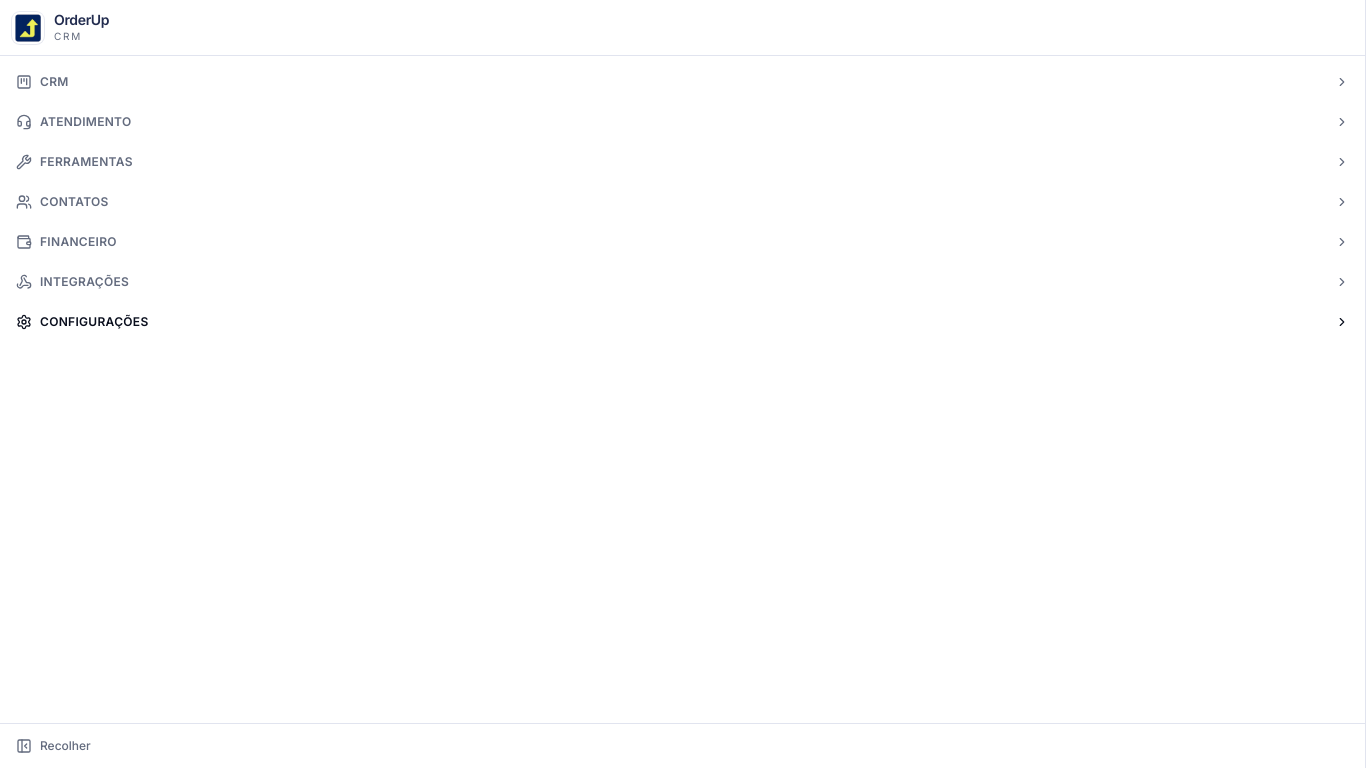
Test case: Sidebar › collapses and expands the settings group independently
Click the button "Configurações" at (94, 322), box left=8, top=308, right=1357, bottom=336
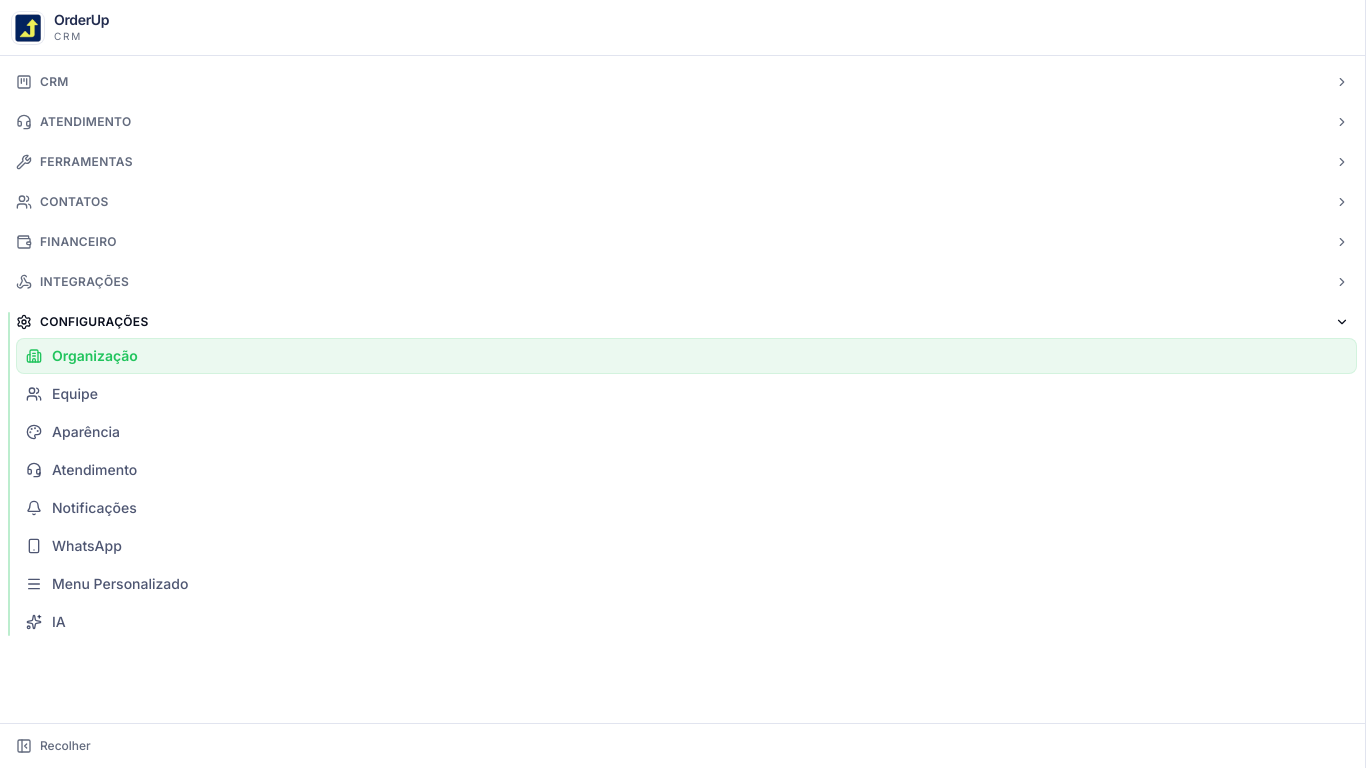
Check: the button "Configurações" is expanded
Check: the link "Equipe" is shown, box left=26, top=385, right=98, bottom=402
Click the button "Configurações" at (94, 322), box left=8, top=308, right=1357, bottom=336
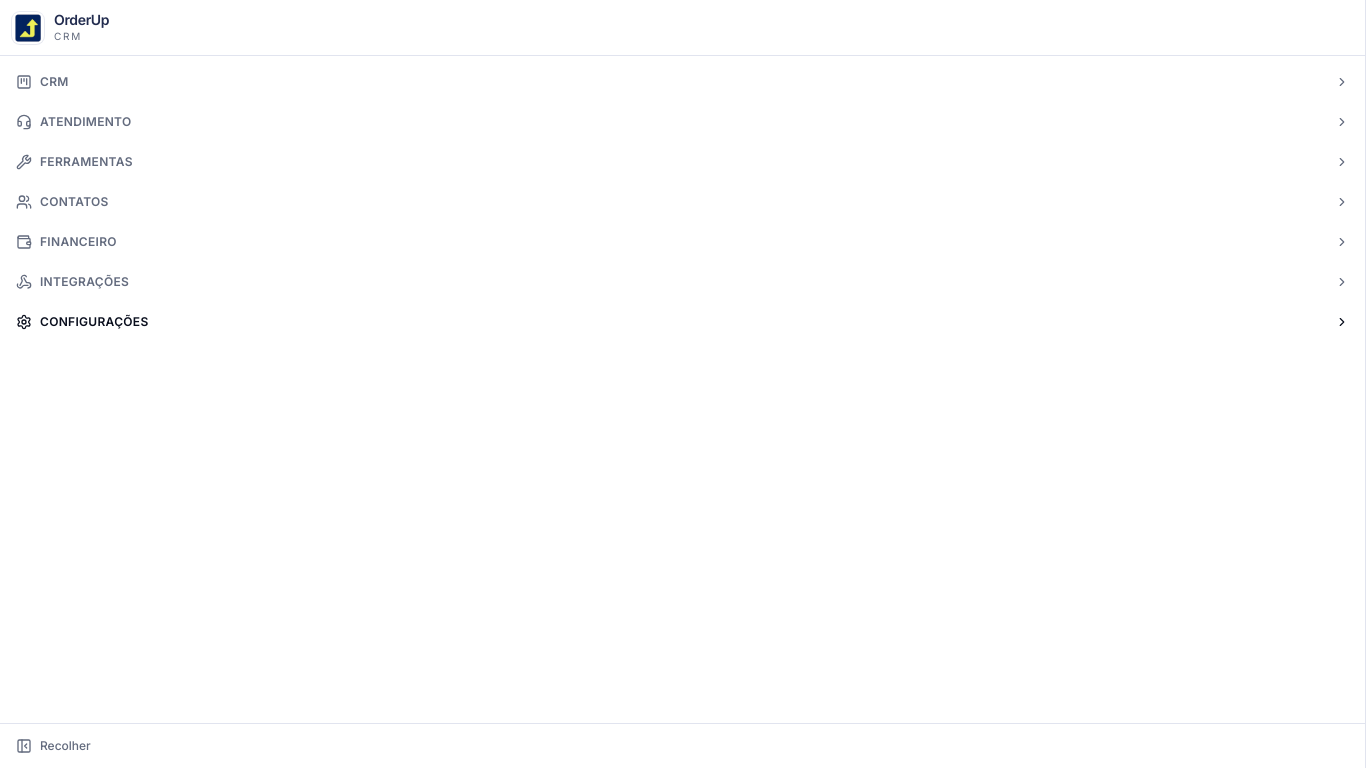
Check: the button "Configurações" is collapsed, box left=8, top=308, right=1357, bottom=336
Check: the link "Equipe" is gone
